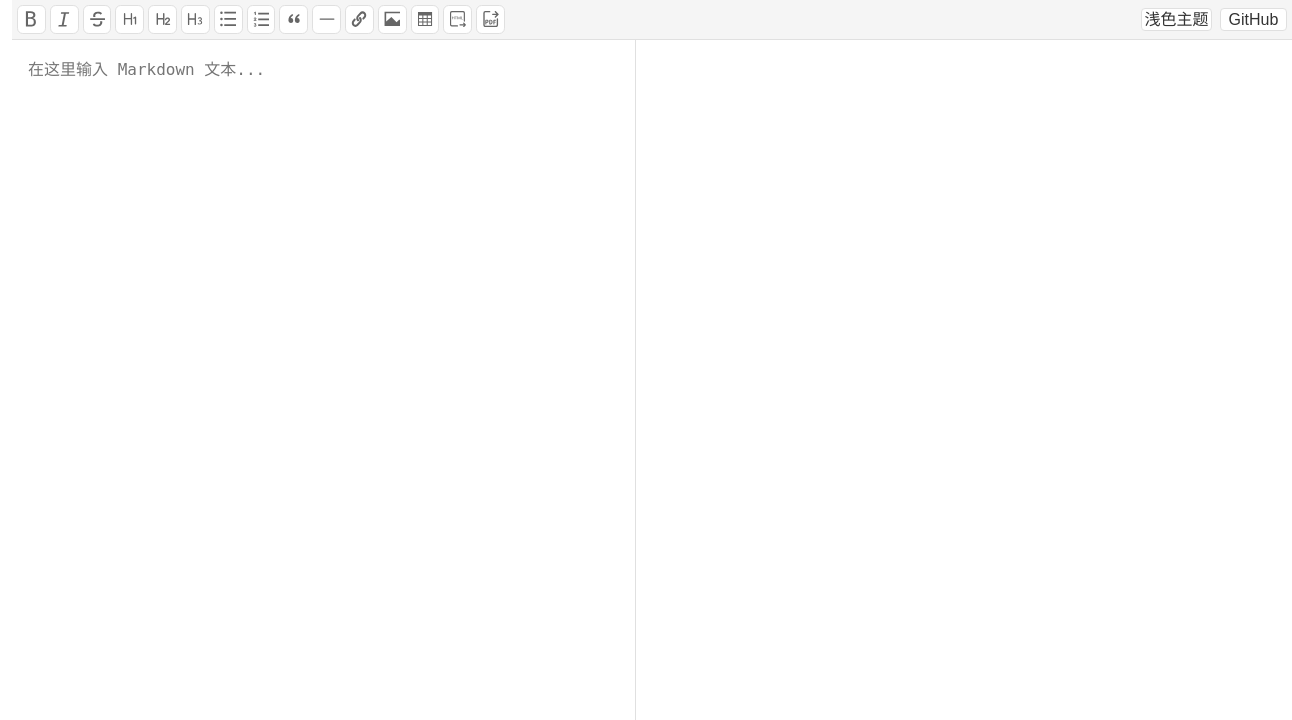
Markdown Editor Basic Functionality › Toolbar functionality › should apply italic formatting
This screenshot has width=1292, height=720.
Type "test text" into the text box with placeholder "在这里输入 Markdown 文本..." at {"x": 324, "y": 380}, box left=12, top=40, right=636, bottom=719
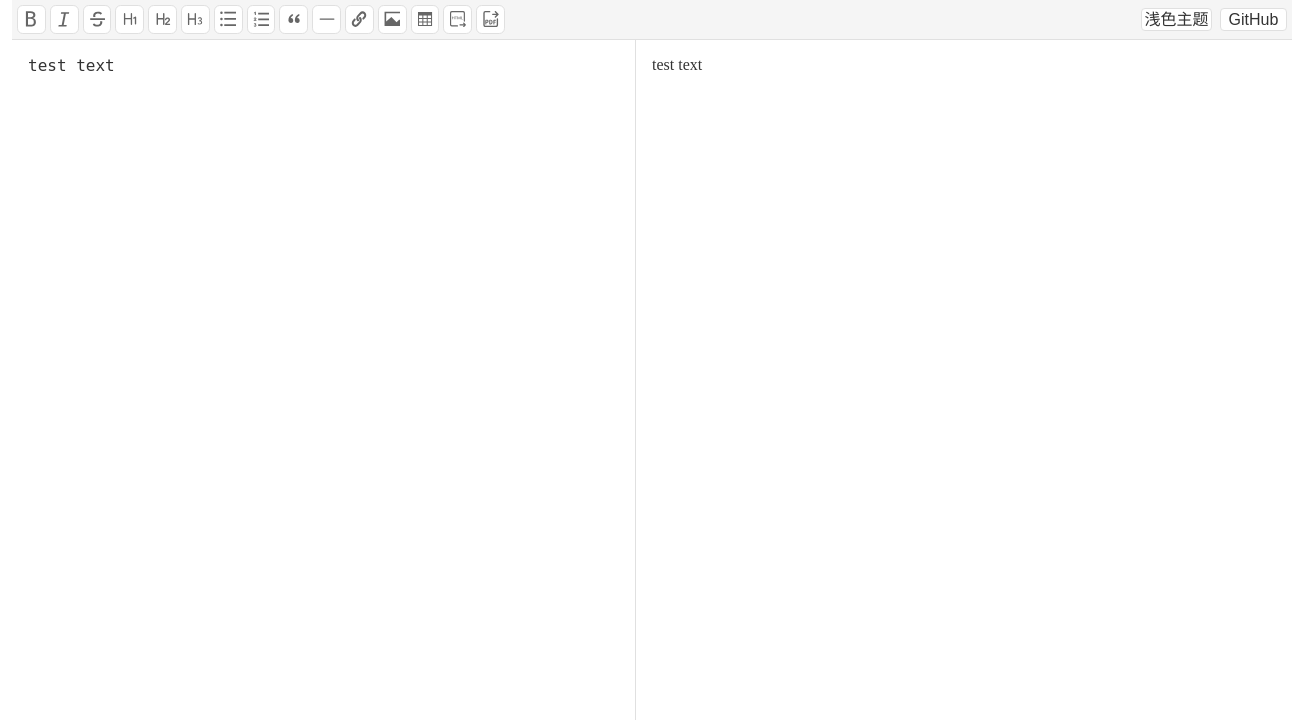
Press Selectall in the text box, box left=12, top=40, right=636, bottom=719
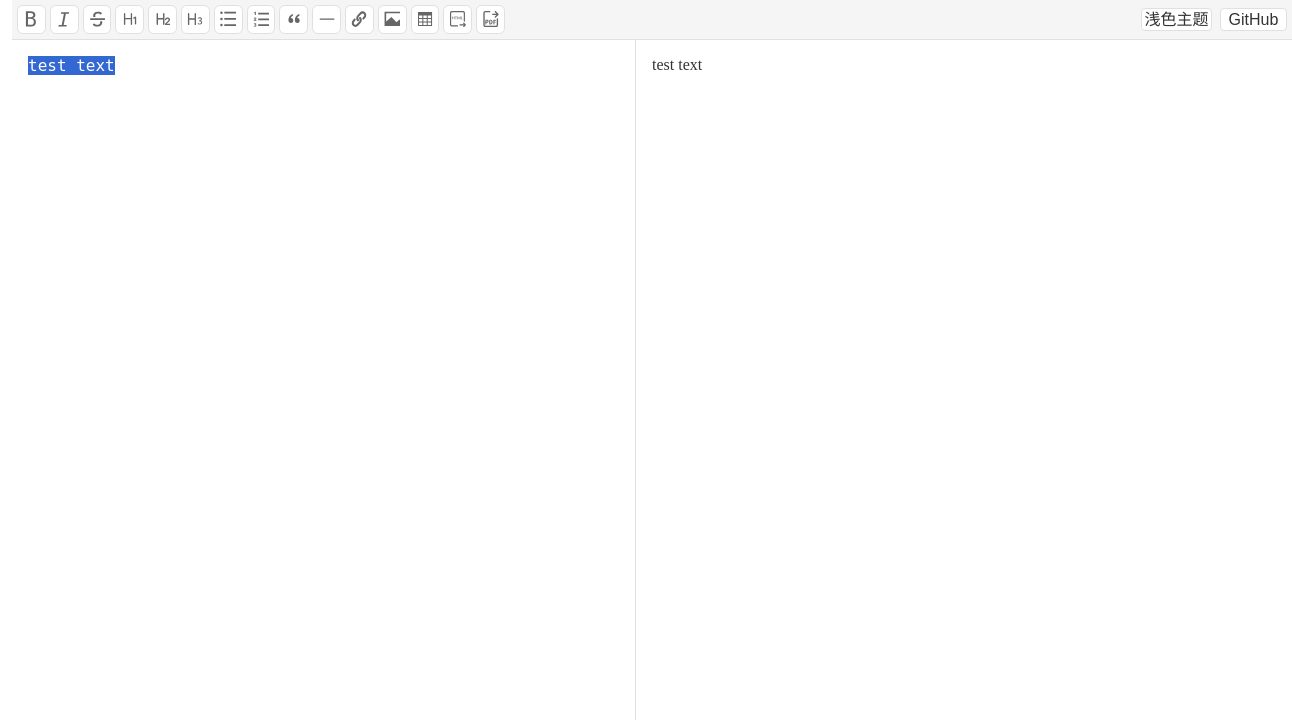
Click the button named "斜体 (Ctrl+I)" at {"x": 65, "y": 20}, box left=50, top=5, right=79, bottom=34
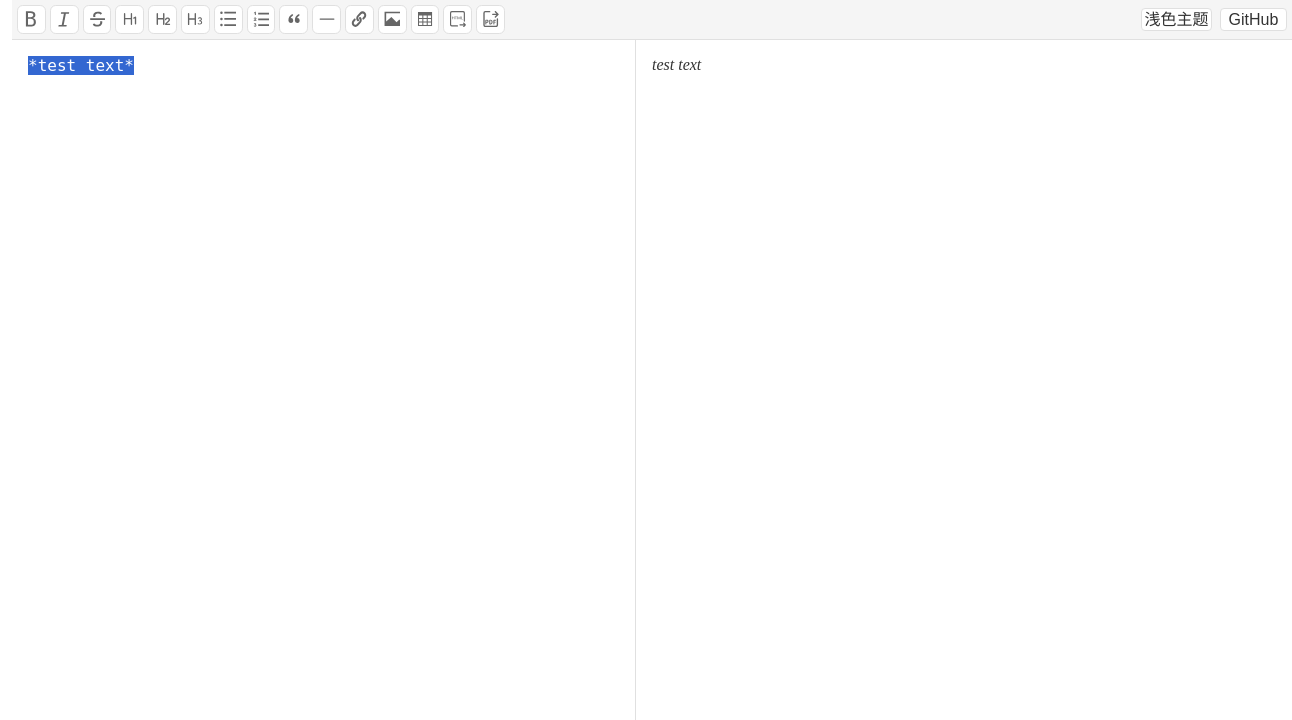
expect the text "test text" is shown: met, box left=652, top=56, right=701, bottom=73
expect the text box holds "*test text*": met, box left=12, top=40, right=636, bottom=719
